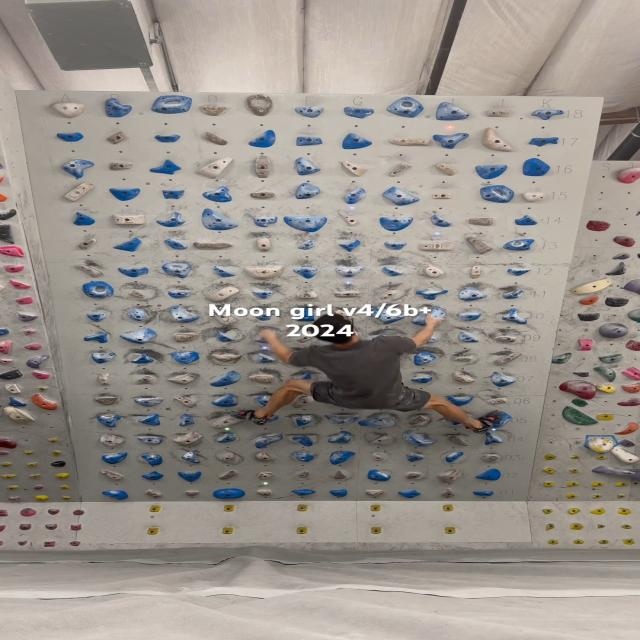A1: (102, 490, 129, 500)
A10: (86, 312, 108, 322)
A11: (82, 281, 114, 298)
A12: (74, 264, 104, 278)
A13: (78, 239, 97, 250)
A14: (73, 212, 95, 226)
A15: (64, 182, 96, 202)
A16: (61, 158, 94, 178)
A17: (56, 132, 84, 142)
A18: (49, 102, 85, 119)
A2: (99, 469, 124, 481)
A3: (100, 452, 128, 464)
A4: (99, 432, 126, 447)
A5: (98, 414, 121, 428)
A6: (95, 397, 118, 405)
A7: (99, 372, 111, 386)
A8: (91, 352, 117, 364)
A9: (84, 333, 108, 343)
B1: (144, 489, 162, 498)
B10: (128, 308, 148, 321)
B11: (128, 290, 145, 298)
B12: (117, 267, 149, 277)
B13: (112, 237, 142, 252)
B14: (112, 214, 146, 225)
B15: (109, 188, 140, 201)
B16: (108, 161, 133, 171)
B17: (106, 131, 130, 145)
B18: (105, 98, 132, 118)
B2: (140, 470, 164, 480)
B3: (140, 454, 163, 466)
B4: (136, 436, 162, 445)
B5: (138, 413, 160, 426)
B6: (133, 397, 164, 407)
B7: (131, 374, 157, 385)
B8: (130, 353, 154, 363)
B9: (120, 327, 157, 344)
C1: (184, 491, 200, 496)
C10: (169, 305, 200, 323)
C11: (168, 291, 192, 298)
C12: (162, 263, 192, 278)
C13: (164, 238, 188, 250)
C14: (156, 212, 186, 228)
C15: (162, 190, 184, 200)
C16: (149, 159, 182, 175)
C17: (154, 134, 180, 143)
C18: (151, 95, 193, 114)
C2: (177, 471, 202, 482)
C3: (180, 449, 202, 464)
C4: (171, 431, 203, 446)
C5: (179, 414, 196, 426)
C6: (172, 395, 198, 408)
C7: (167, 372, 200, 386)
C8: (170, 350, 200, 364)
C9: (173, 333, 199, 342)
D1: (213, 488, 245, 499)
D11: (205, 285, 239, 303)
D12: (212, 266, 236, 278)
D13: (193, 241, 233, 249)
D14: (201, 208, 238, 230)
D15: (202, 186, 232, 203)
D16: (197, 156, 234, 180)
D17: (201, 132, 229, 146)
D18: (199, 105, 230, 116)
D2: (218, 470, 238, 480)
D3: (220, 453, 236, 462)
D4: (215, 432, 237, 443)
D6: (211, 393, 239, 407)
D7: (209, 370, 242, 387)
D8: (211, 354, 242, 362)
D9: (216, 331, 236, 342)
E1: (256, 489, 273, 497)
E11: (252, 291, 274, 299)
E12: (244, 266, 284, 280)
E13: (256, 237, 271, 252)
E14: (252, 216, 278, 227)
E15: (250, 192, 275, 198)
E16: (254, 154, 272, 178)
E17: (248, 129, 276, 148)
E18: (246, 94, 275, 116)
E2: (257, 472, 274, 481)
E3: (254, 452, 274, 462)
E4: (254, 433, 282, 449)
E7: (248, 374, 274, 384)
E8: (256, 353, 276, 363)
F: (223, 504, 236, 512), (296, 504, 309, 512), (148, 505, 162, 512), (147, 527, 159, 535), (442, 504, 454, 512), (444, 526, 456, 534), (370, 504, 381, 512), (371, 526, 382, 534), (222, 527, 234, 534), (296, 527, 308, 534)
F1: (291, 489, 317, 496)
F11: (296, 288, 318, 299)
F12: (292, 267, 318, 279)
F13: (296, 239, 316, 250)
F14: (283, 215, 328, 233)
F15: (295, 182, 321, 200)
F16: (295, 157, 321, 176)
F17: (296, 136, 322, 146)
F18: (294, 106, 325, 118)
F2: (297, 471, 310, 478)
F3: (290, 452, 315, 463)
F4: (292, 434, 314, 446)
F5: (294, 415, 314, 426)
G1: (329, 488, 348, 498)
G11: (334, 290, 361, 298)
G12: (335, 266, 364, 276)
G13: (339, 240, 362, 252)
G14: (338, 212, 358, 227)
G15: (343, 188, 367, 205)
G16: (341, 160, 368, 178)
G17: (342, 133, 372, 149)
G18: (343, 106, 374, 119)
G2: (333, 470, 346, 479)
G3: (329, 450, 356, 465)
G4: (327, 430, 352, 444)
G5: (325, 413, 358, 425)
H1: (365, 489, 384, 496)
H11: (379, 289, 398, 300)
H12: (382, 266, 404, 276)
H13: (384, 241, 408, 250)
H14: (379, 216, 413, 232)
H15: (381, 186, 420, 206)
H16: (389, 162, 412, 177)
H17: (388, 137, 431, 147)
H18: (386, 96, 424, 118)
H2: (367, 469, 391, 481)
H3: (370, 452, 384, 461)
H4: (368, 432, 394, 446)
H5: (358, 412, 396, 428)
I1: (398, 489, 422, 498)
I11: (414, 290, 448, 300)
I12: (422, 265, 444, 278)
I13: (417, 242, 455, 251)
I14: (430, 214, 452, 227)
I15: (431, 193, 452, 200)
I16: (434, 162, 456, 176)
I17: (432, 132, 470, 150)
I18: (436, 101, 469, 121)
I2: (405, 472, 422, 479)
I3: (406, 452, 425, 462)
I4: (405, 436, 437, 447)
I5: (408, 414, 428, 424)
I7: (410, 376, 434, 384)
I8: (414, 352, 435, 366)
J1: (440, 487, 456, 498)
J10: (456, 313, 481, 321)
J11: (458, 286, 487, 300)
J12: (469, 266, 482, 280)
J13: (466, 236, 494, 255)
J14: (466, 217, 494, 226)
J15: (480, 185, 514, 203)
J16: (474, 164, 508, 180)
J17: (481, 127, 515, 152)
J18: (486, 109, 514, 117)
J2: (437, 468, 464, 484)
J3: (444, 451, 464, 463)
J4: (448, 435, 470, 446)
J6: (446, 395, 474, 406)
J7: (450, 372, 476, 384)
J8: (453, 356, 472, 362)
J9: (458, 331, 480, 343)
K1: (472, 490, 494, 497)
K10: (501, 308, 528, 325)
K11: (502, 289, 524, 299)
K12: (507, 268, 531, 276)
K13: (502, 238, 535, 250)
K14: (514, 214, 538, 226)
K15: (523, 191, 547, 202)
K16: (522, 158, 551, 176)
K17: (528, 137, 559, 147)
K18: (530, 109, 565, 120)
K2: (474, 468, 502, 481)
K3: (479, 454, 499, 462)
K4: (484, 431, 504, 445)
K6: (489, 399, 508, 405)
K7: (491, 371, 517, 387)
K8: (493, 352, 521, 366)
K9: (494, 336, 516, 343)
